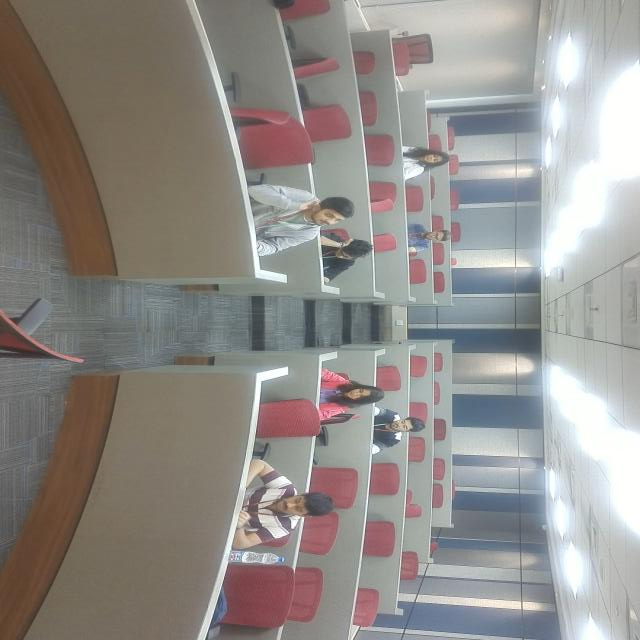non-cheating: (173, 252, 245, 403)
